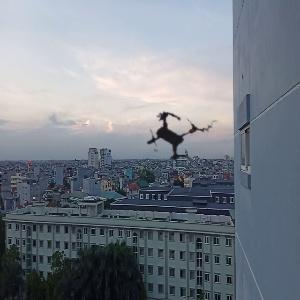drone: (114, 81, 232, 199)
